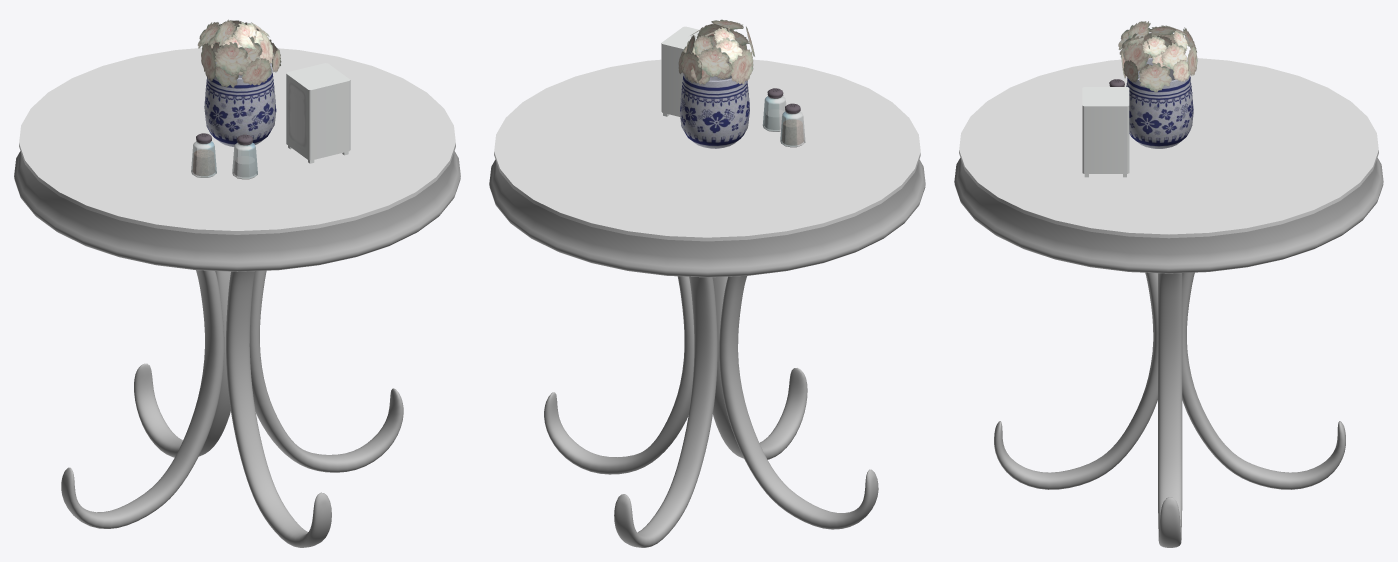
3 views of the same model, side by side, from view 1: azimuth 30°, elevation 25°; view 2: azimuth 150°, elevation 25°; view 3: azimuth 270°, elevation 25° (orthographic). The views are drawn at different scales.
Parts seen in each view (by area): view 1: Table_Top_Geo, Table_Legs_Geo, Napkins_Geo, Flowers_Geo, FlowerVase_Geo, Salt_Geo, Pepper_Geo; view 2: Table_Top_Geo, Table_Legs_Geo, FlowerVase_Geo, Flowers_Geo, Napkins_Geo, Pepper_Geo, Salt_Geo; view 3: Table_Top_Geo, Table_Legs_Geo, Napkins_Geo, Flowers_Geo, FlowerVase_Geo.
Part boxes in pixels (x1,y1,x2,y2): Table_Top_Geo: [14, 48, 460, 271]; Table_Legs_Geo: [61, 270, 403, 547]; Napkins_Geo: [286, 63, 350, 163]; Flowers_Geo: [198, 19, 281, 87]; FlowerVase_Geo: [204, 62, 276, 146]; Salt_Geo: [232, 134, 257, 179]; Pepper_Geo: [191, 133, 216, 177]; Table_Top_Geo: [489, 59, 925, 277]; Table_Legs_Geo: [544, 276, 878, 547]; FlowerVase_Geo: [679, 62, 749, 148]; Flowers_Geo: [678, 19, 754, 84]; Napkins_Geo: [661, 26, 700, 116]; Pepper_Geo: [780, 103, 805, 147]; Salt_Geo: [762, 88, 786, 131]; Table_Top_Geo: [954, 57, 1383, 273]; Table_Legs_Geo: [994, 272, 1345, 547]; Napkins_Geo: [1082, 87, 1129, 177]; Flowers_Geo: [1118, 21, 1197, 92]; FlowerVase_Geo: [1126, 58, 1193, 148].
Bounding box in the file's own units: 4.06 × 4.87 × 4.06.
Materials: 1 (1 with a texture image).
